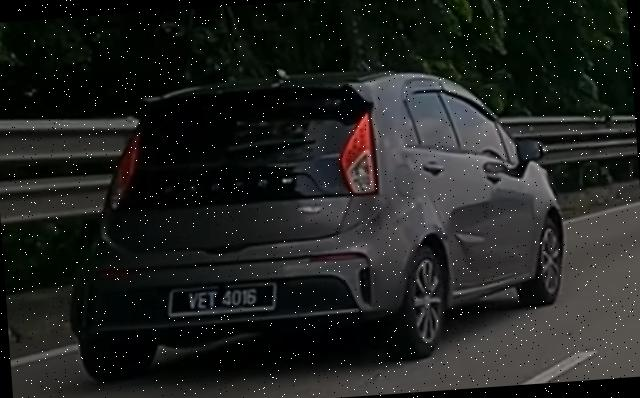License_Plate: (166, 280, 279, 319)
car: (53, 52, 574, 385)
